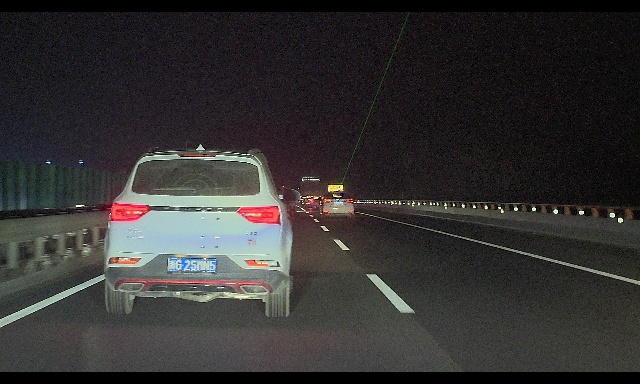car: (102, 145, 301, 319), (318, 190, 355, 220)
truck: (297, 176, 327, 207)
